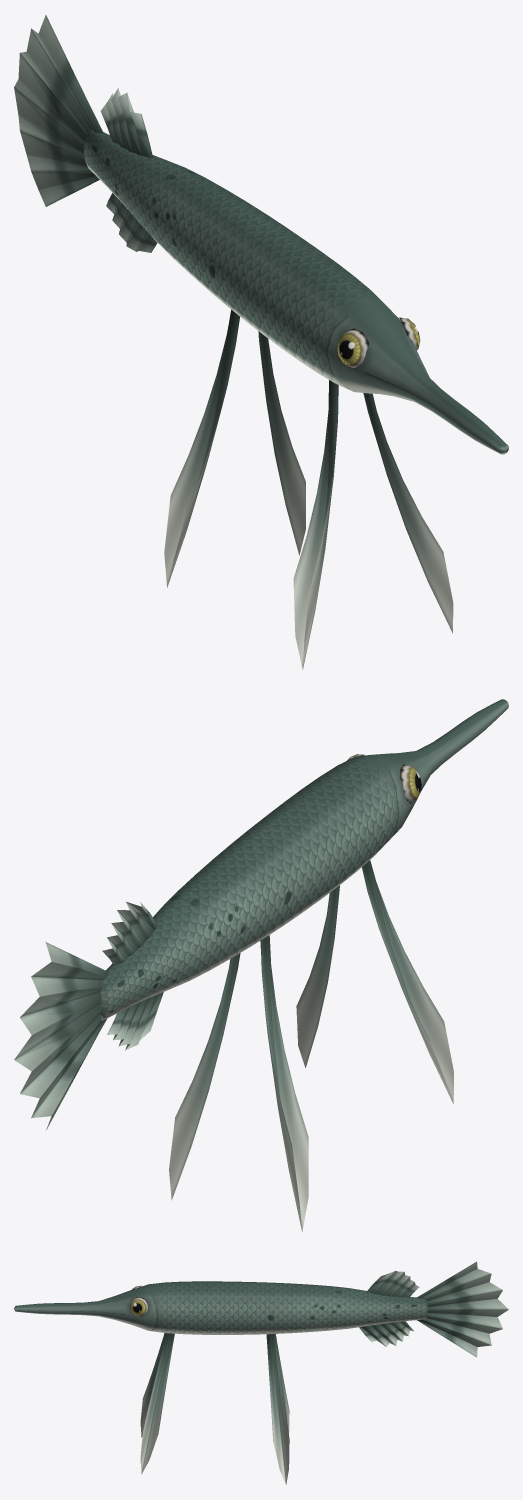
The model's file is stilt-gar.glb.
3 views of the same model, one above another, from view 1: azimuth 30°, elevation 25°; view 2: azimuth 150°, elevation 25°; view 3: azimuth 270°, elevation 25° (orthographic). The views are drawn at different scales.
Visible parts, largest first — view 1: stilt-gar; view 2: stilt-gar; view 3: stilt-gar.
Boxes of the visible parts, bbox=[...] form: stilt-gar: bbox=[14, 15, 508, 670]; stilt-gar: bbox=[14, 699, 508, 1231]; stilt-gar: bbox=[14, 1261, 508, 1484].
Size of the model in its own units: 0.1751 by 0.4656 by 1.
Materials: 1 (1 with a texture image).
